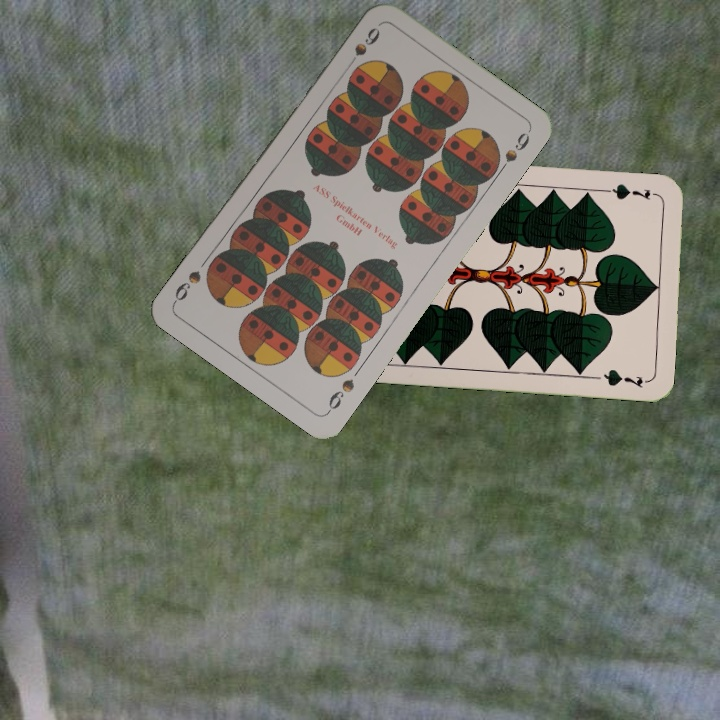G7: (602, 180, 661, 203)
S9: (323, 374, 357, 416), (350, 23, 383, 59)
